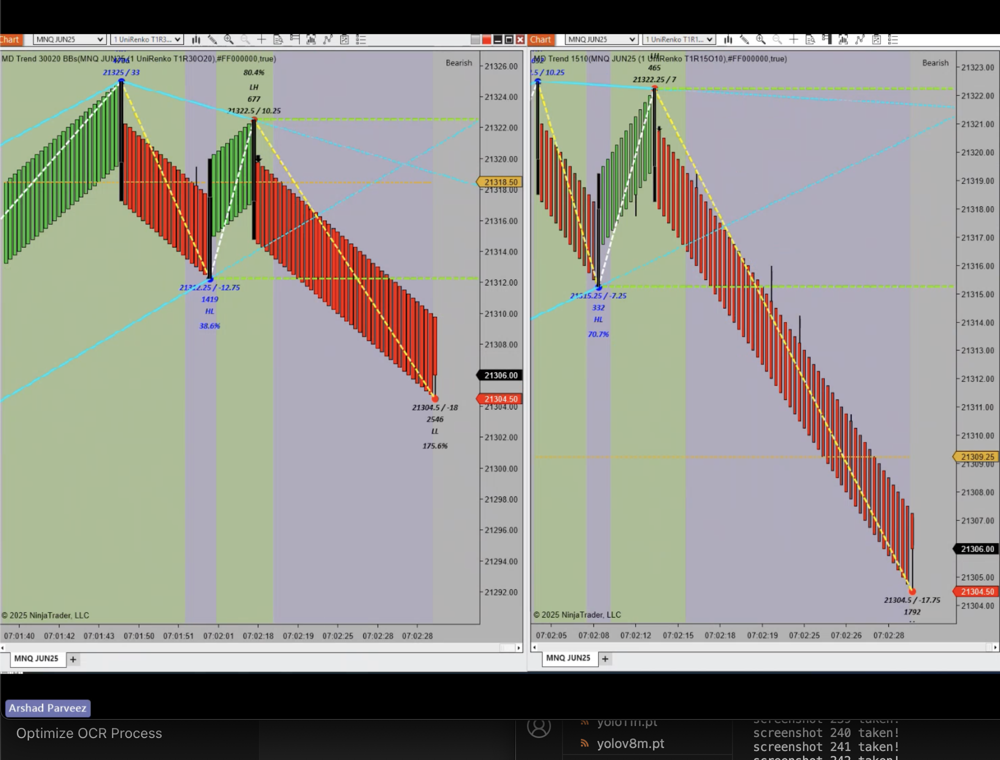HL: (196, 302, 223, 320), (582, 311, 609, 325)
LH: (244, 79, 263, 96)
LL: (424, 422, 449, 443)
